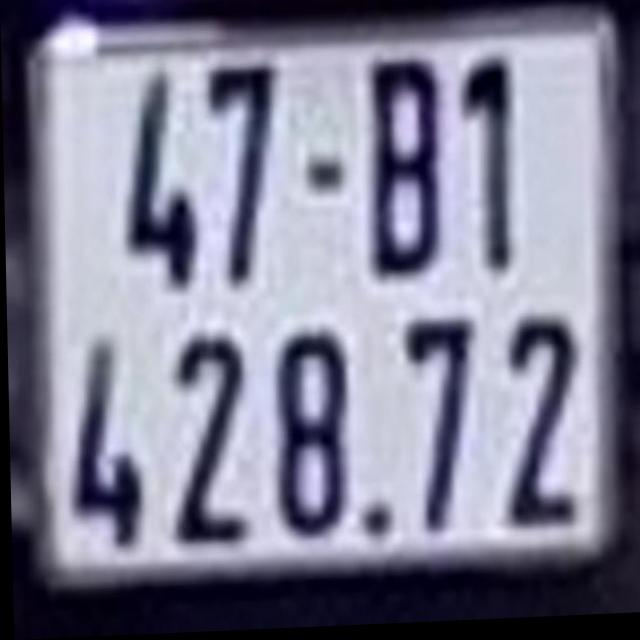1: (462, 67, 519, 269)
2: (505, 308, 578, 534), (174, 318, 246, 543)
4: (128, 92, 208, 296), (74, 341, 144, 550)
7: (401, 320, 484, 538), (209, 58, 281, 283)
8: (277, 326, 343, 540)
B: (373, 57, 444, 273)
